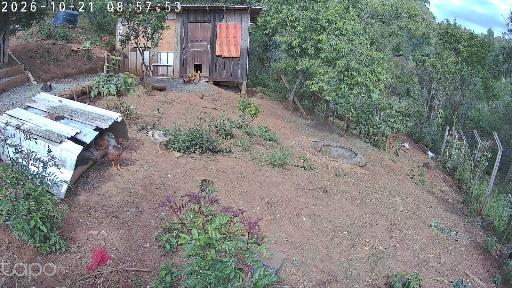frango: (86, 146, 102, 160), (104, 132, 117, 148)
galinha: (147, 130, 174, 152), (108, 146, 122, 172), (81, 153, 91, 169)
galo: (188, 71, 197, 85), (427, 150, 436, 159)
pato: (402, 142, 409, 147)
